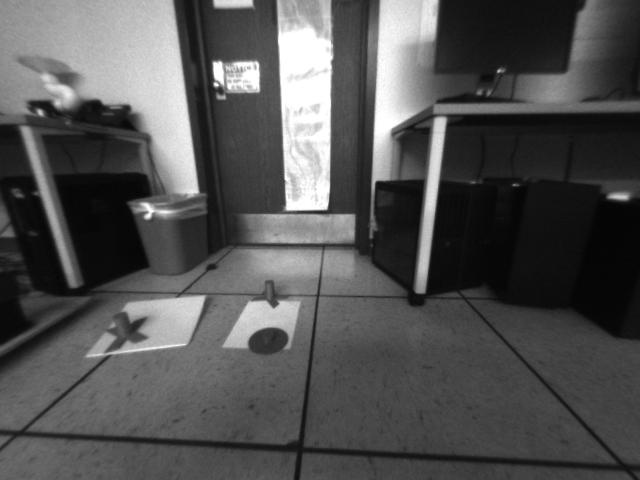X: (98, 309, 147, 352), (251, 279, 288, 309)
